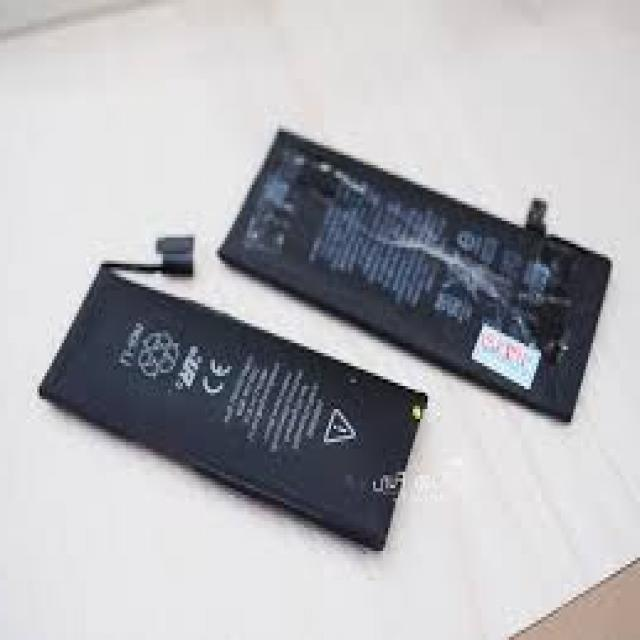battery: (39, 235, 420, 550), (226, 120, 610, 428)
